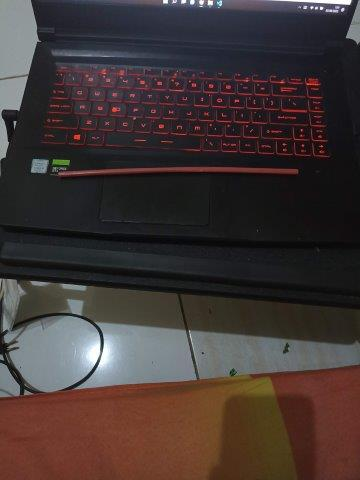sedotan: (58, 166, 298, 178)
